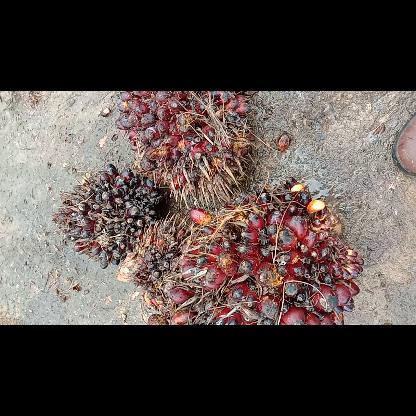Kurang masak: (161, 178, 363, 324)
TBS abnormal: (52, 163, 162, 267), (116, 211, 192, 316)
TBS masak: (115, 90, 258, 209)
